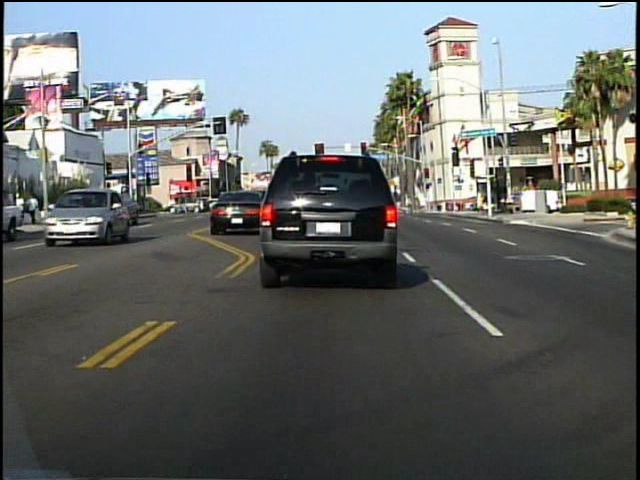person: (175, 186, 189, 218)
